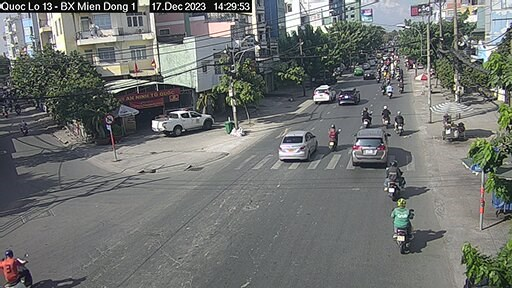car: (150, 110, 216, 136), (354, 129, 389, 168), (278, 130, 316, 160), (334, 87, 363, 108), (314, 84, 336, 103), (362, 71, 375, 80)
motorbike: (389, 202, 416, 245), (382, 163, 406, 198), (329, 122, 343, 154), (394, 111, 405, 134), (380, 106, 393, 124), (361, 107, 371, 125)
